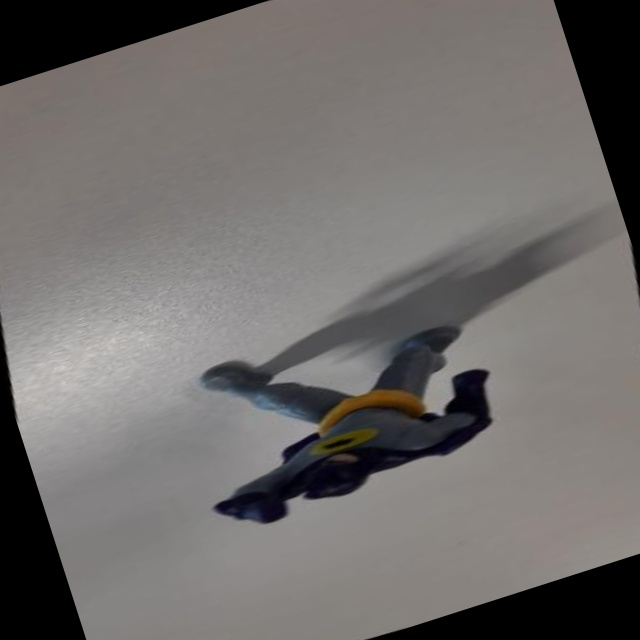Batman: (148, 276, 543, 560)
